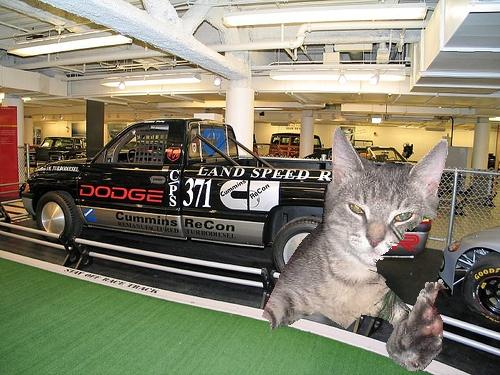tampered: (263, 127, 448, 371)
